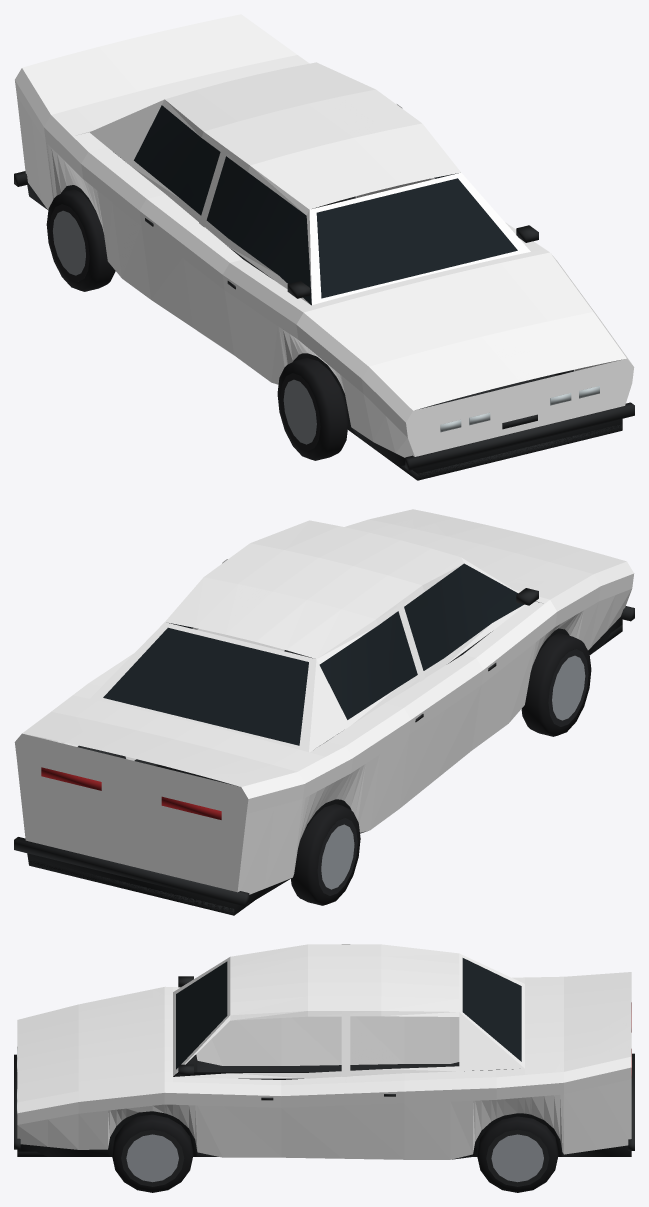
Rendered from hayase_muralha.glb.
The picture shows the model from 3 angles, top to bottom: view 1: azimuth 30°, elevation 25°; view 2: azimuth 150°, elevation 25°; view 3: azimuth 270°, elevation 25°; orthographic projection. The views are drawn at different scales.
Visible parts, largest first — view 1: Body_Paint, Body_Details, Mount_FrontLeft_Wheel_Details, Mount_RearLeft_Wheel_Details; view 2: Body_Paint, Body_Details, Mount_FrontLeft_Wheel_Details, Mount_RearLeft_Wheel_Details; view 3: Body_Paint, Body_Details, Mount_FrontRight_Wheel_Details, Mount_RearRight_Wheel_Details.
Boxes of the visible parts, box(x1,y1,x2,y2) form: Body_Paint: box(15, 14, 634, 457); Body_Details: box(14, 105, 634, 480); Mount_FrontLeft_Wheel_Details: box(277, 358, 348, 460); Mount_RearLeft_Wheel_Details: box(46, 189, 115, 291); Body_Paint: box(14, 509, 634, 894); Body_Details: box(14, 563, 634, 915); Mount_FrontLeft_Wheel_Details: box(521, 633, 591, 736); Mount_RearLeft_Wheel_Details: box(291, 804, 360, 905); Body_Paint: box(17, 944, 631, 1159); Body_Details: box(14, 958, 634, 1159); Mount_FrontRight_Wheel_Details: box(112, 1114, 193, 1192); Mount_RearRight_Wheel_Details: box(477, 1116, 558, 1192).
Size of the model in its own units: 2.08 by 1.55 by 5.2.
Materials: 2 (1 with a texture image).
